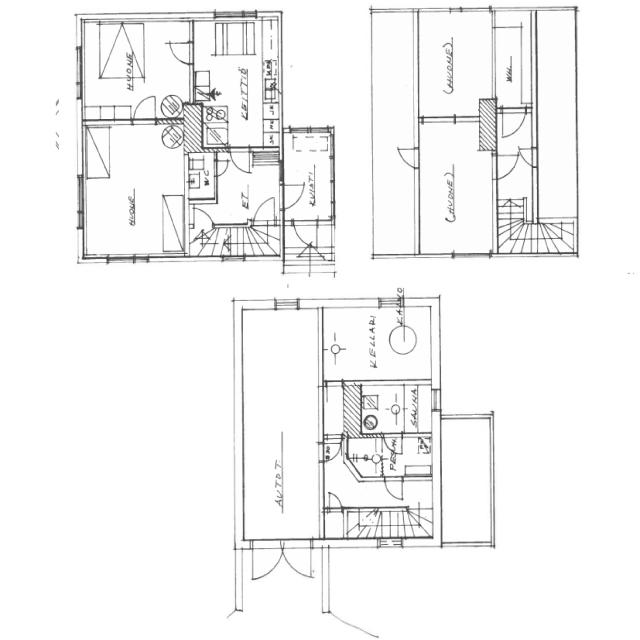door: (187, 154, 217, 202), (498, 105, 528, 139), (290, 217, 320, 250), (131, 92, 159, 124), (279, 180, 307, 211), (492, 150, 520, 180), (251, 195, 279, 223), (229, 144, 254, 175), (167, 38, 194, 66), (383, 474, 406, 501), (191, 205, 216, 227), (382, 431, 404, 455), (322, 437, 342, 462), (397, 145, 419, 167), (518, 144, 538, 168), (325, 489, 343, 512), (213, 158, 229, 177)
window: (212, 8, 258, 21), (449, 248, 493, 261), (104, 252, 144, 266), (271, 296, 301, 311), (420, 112, 457, 124), (376, 538, 404, 550), (430, 387, 442, 412), (461, 4, 491, 14), (243, 254, 280, 262), (222, 254, 247, 264), (328, 157, 336, 184)
zone: (243, 300, 321, 546), (79, 123, 186, 260), (416, 119, 496, 258), (78, 20, 189, 120), (194, 18, 280, 146), (416, 9, 494, 118), (320, 306, 431, 382), (189, 150, 291, 229), (283, 130, 334, 222), (492, 10, 536, 108), (246, 537, 320, 583), (360, 382, 406, 434), (347, 437, 383, 480), (188, 154, 215, 200)
